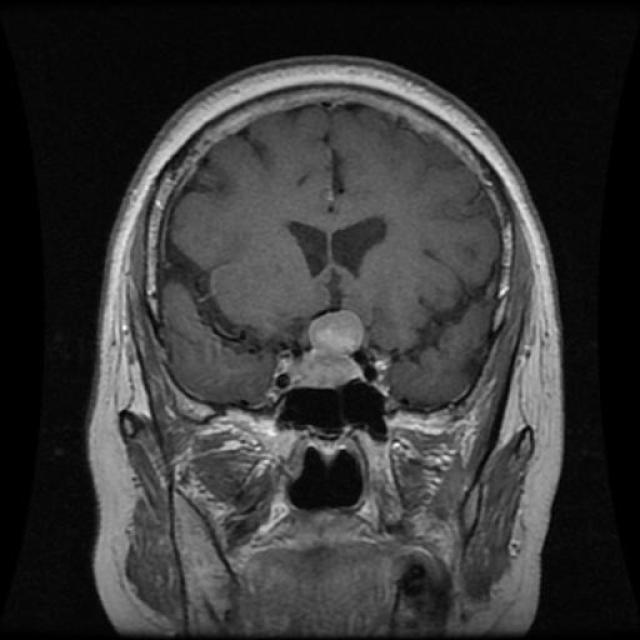brain_tumor: (291, 304, 369, 389)
